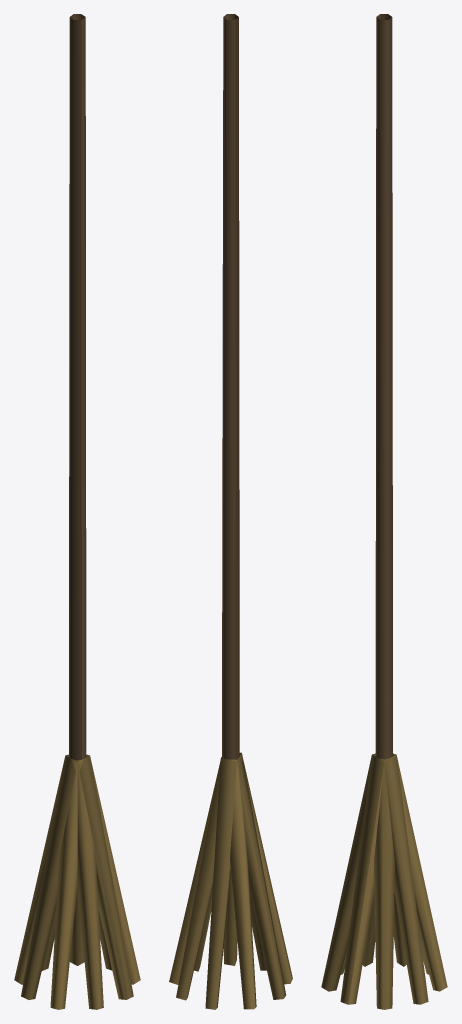
The model's file is scopa.glb.
3 views of the same model, side by side, from view 1: azimuth 90°, elevation 25°; view 2: azimuth 210°, elevation 25°; view 3: azimuth 270°, elevation 25° (orthographic).
Visible parts, largest first — view 1: scopa; view 2: scopa; view 3: scopa.
Boxes of the visible parts, left/top/right/bottom form: scopa: left=14, top=14, right=140, bottom=1009; scopa: left=169, top=14, right=292, bottom=1009; scopa: left=321, top=14, right=447, bottom=1009.
Size of the model in its own units: 0.1972 by 1.7 by 0.2013.
